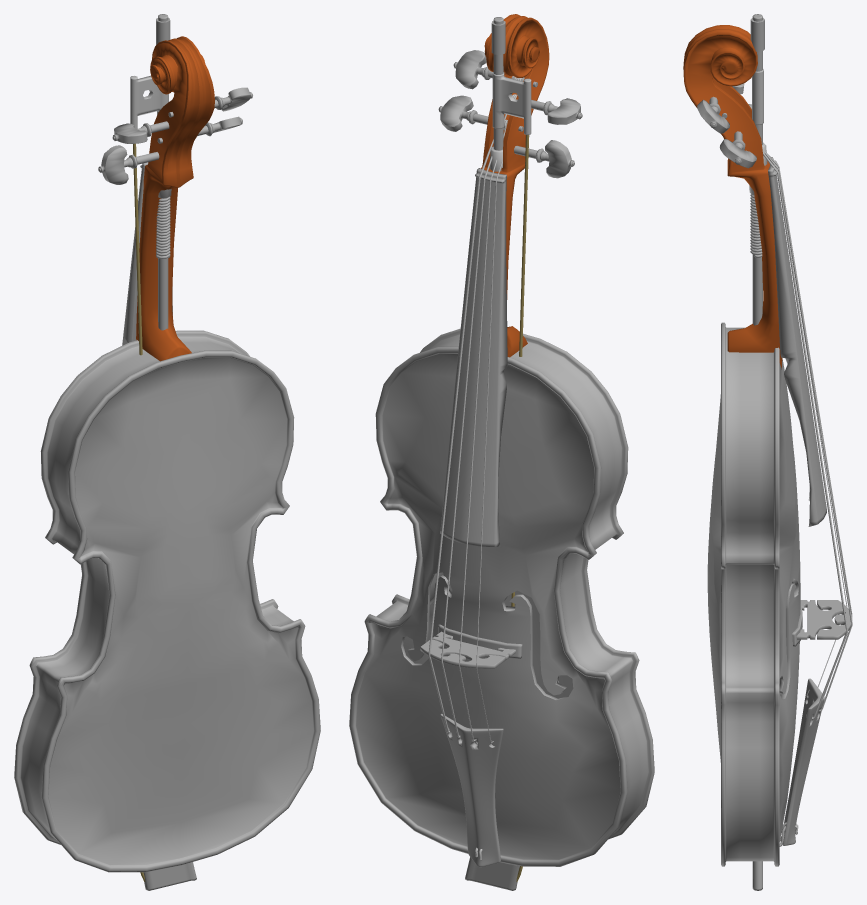
File: ViolinFBX.fbx
3 renders of one model, left to right at view 1: azimuth 30°, elevation 25°; view 2: azimuth 150°, elevation 25°; view 3: azimuth 270°, elevation 25°, orthographic.
Visible parts, largest first — view 1: violin_1, vara_2; view 2: violin_1, vara_2; view 3: violin_1, vara_2.
Part boxes in pixels (bbox=[...]): violin_1: bbox=[14, 36, 320, 872]; vara_2: bbox=[130, 14, 196, 890]; violin_1: bbox=[349, 14, 654, 867]; vara_2: bbox=[465, 17, 531, 890]; violin_1: bbox=[683, 25, 852, 866]; vara_2: bbox=[749, 14, 767, 890].
Bounding box in the file's own units: 0.3342 × 0.9992 × 0.1783.
